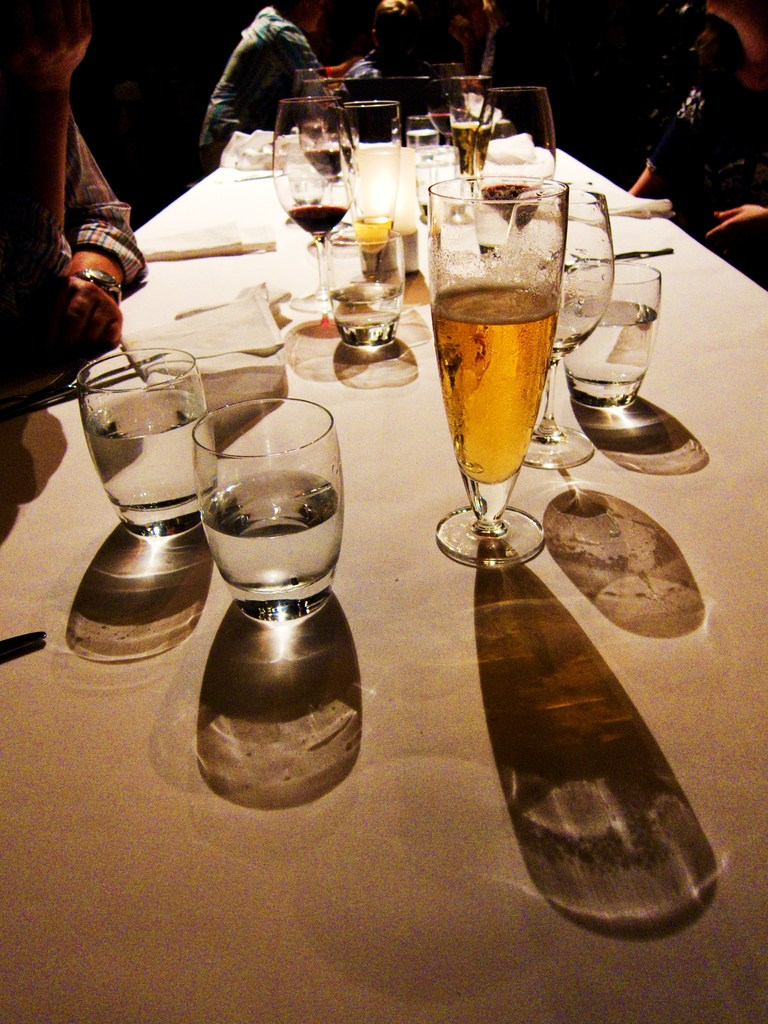Beer: (437, 279, 559, 480)
